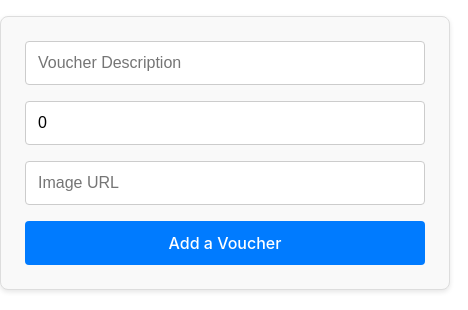
Test: VoucherForm › should allow user to input values and submit the form
# Fake values
Step 1. Type "Discount Voucher" into the field with placeholder "Voucher Description" → x=225, y=63, box top-left (25, 41), bottom-right (425, 85)
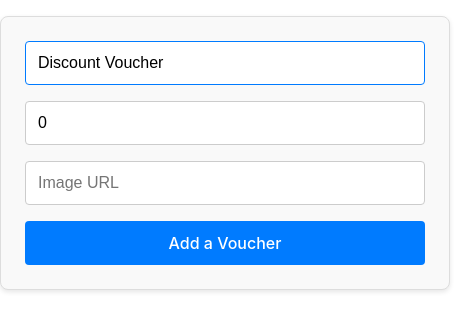
Step 2. Type "50" into the number field with placeholder "Price" → x=225, y=123, box top-left (25, 101), bottom-right (425, 145)
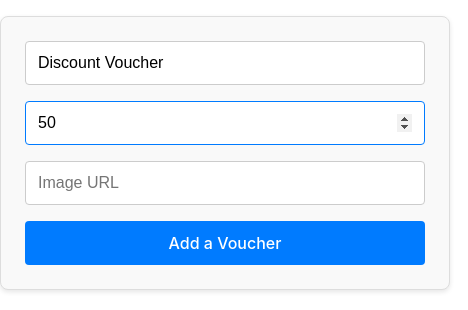
Step 3. Type "https://example.com/voucher.png" into the field with placeholder "Image URL" → x=225, y=183, box top-left (25, 161), bottom-right (425, 205)
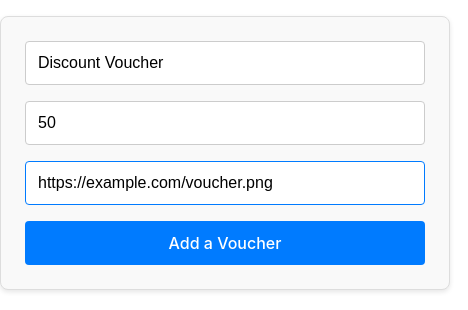
# Submit form
Step 4. Click the button "Add a Voucher" → x=225, y=243, box top-left (25, 221), bottom-right (425, 265)
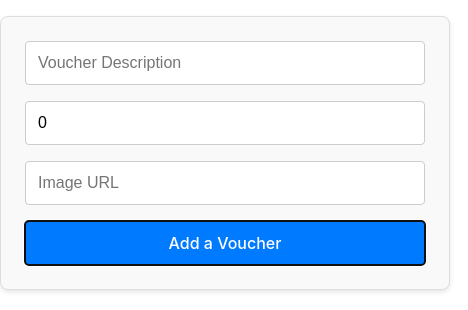
expect the field with placeholder "Voucher Description" is empty: met, box top-left (25, 41), bottom-right (425, 85)
expect the number field with placeholder "Price" holds "0": met, box top-left (25, 101), bottom-right (425, 145)
expect the field with placeholder "Image URL" is empty: met, box top-left (25, 161), bottom-right (425, 205)
